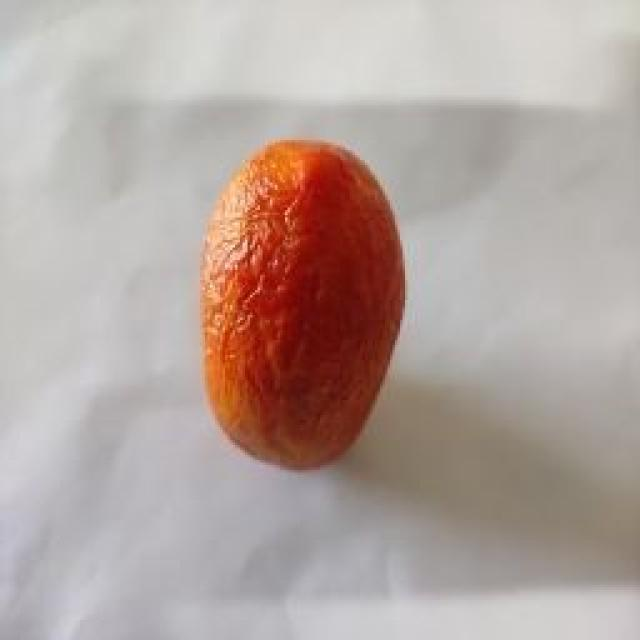overripe: (196, 137, 409, 475)
